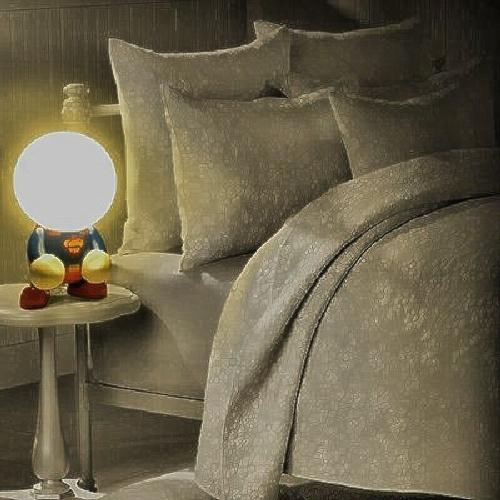stapler: (19, 141, 120, 306)
